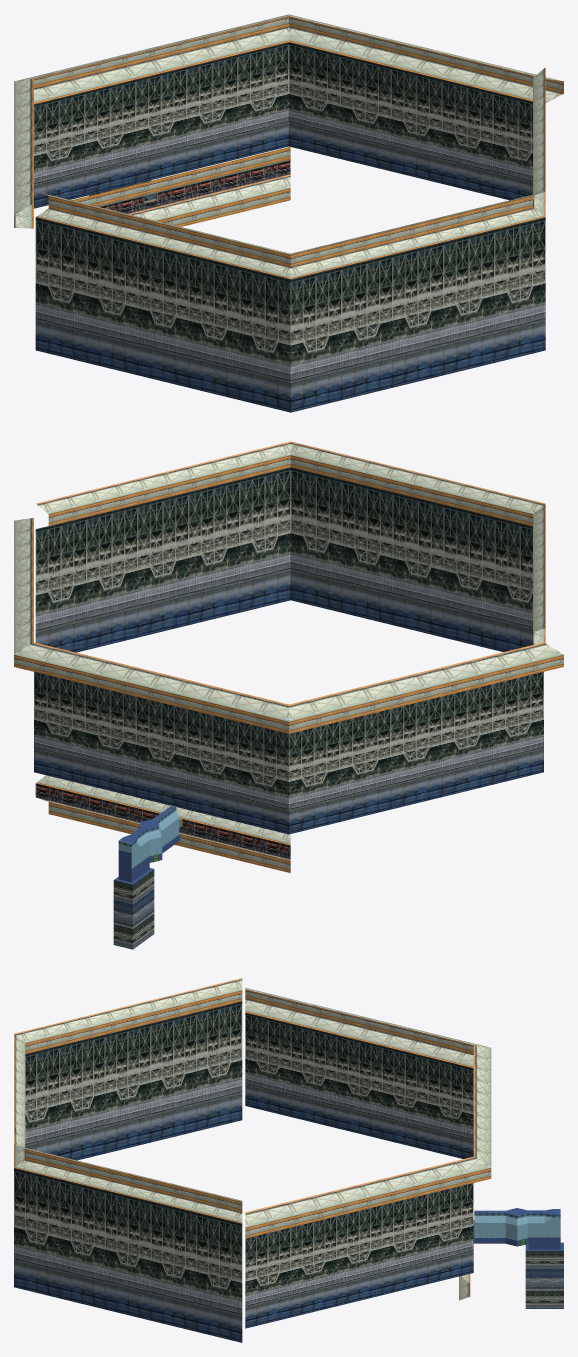
Rendered from 2P_Grand_metropolis4.obj.
3 renders of one model, top to bottom at view 1: azimuth 30°, elevation 25°; view 2: azimuth 150°, elevation 25°; view 3: azimuth 270°, elevation 25°, orthographic. The views are drawn at different scales.
Visible parts, largest first — view 1: obj1; view 2: obj1; view 3: obj1.
Boxes of the visible parts, x1,y1,x2,y2 form: obj1: (14, 14, 563, 412); obj1: (14, 441, 563, 949); obj1: (14, 978, 563, 1342).
Bounding box in the file's own units: 8865 × 3802 × 8579.
